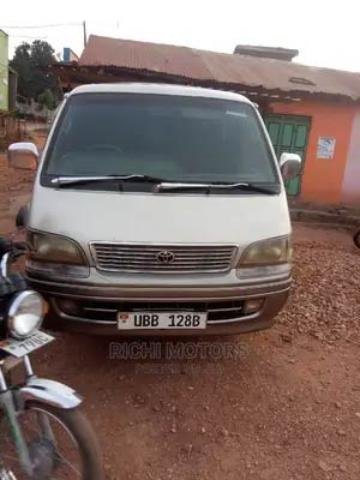van: (8, 83, 304, 335)
